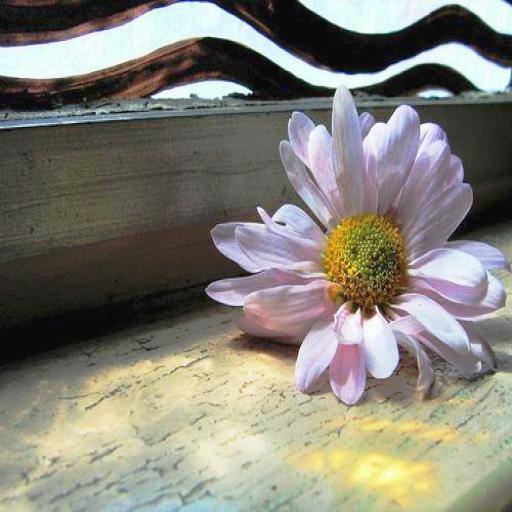daisy: (220, 97, 504, 408)
